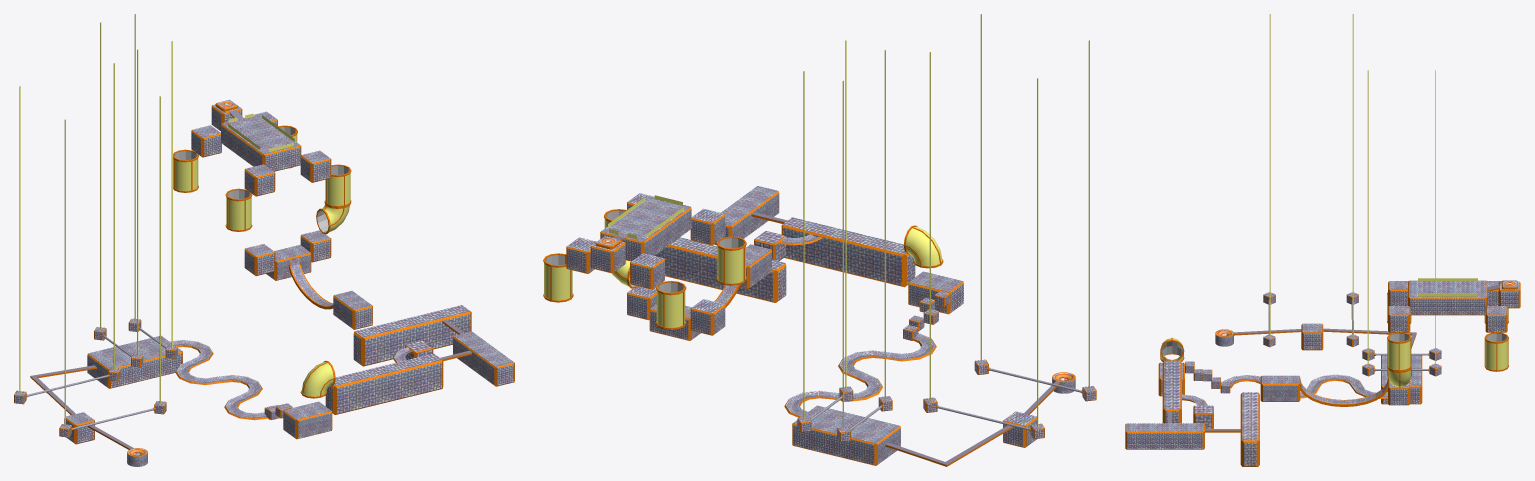
File: Level48.fbx
The picture shows the model from 3 angles, left to right: view 1: azimuth 30°, elevation 25°; view 2: azimuth 150°, elevation 25°; view 3: azimuth 270°, elevation 25°; orthographic projection. The views are drawn at different scales.
Visible parts, largest first — view 1: Level48; view 2: Level48; view 3: Level48.
Boxes of the visible parts, x1=… form: Level48: x1=14, y1=14, x2=514, y2=466; Level48: x1=543, y1=14, x2=1096, y2=466; Level48: x1=1125, y1=14, x2=1520, y2=466.
Size of the model in its own units: 6313 by 5228 by 5946.
Materials: 14 (7 with a texture image).
